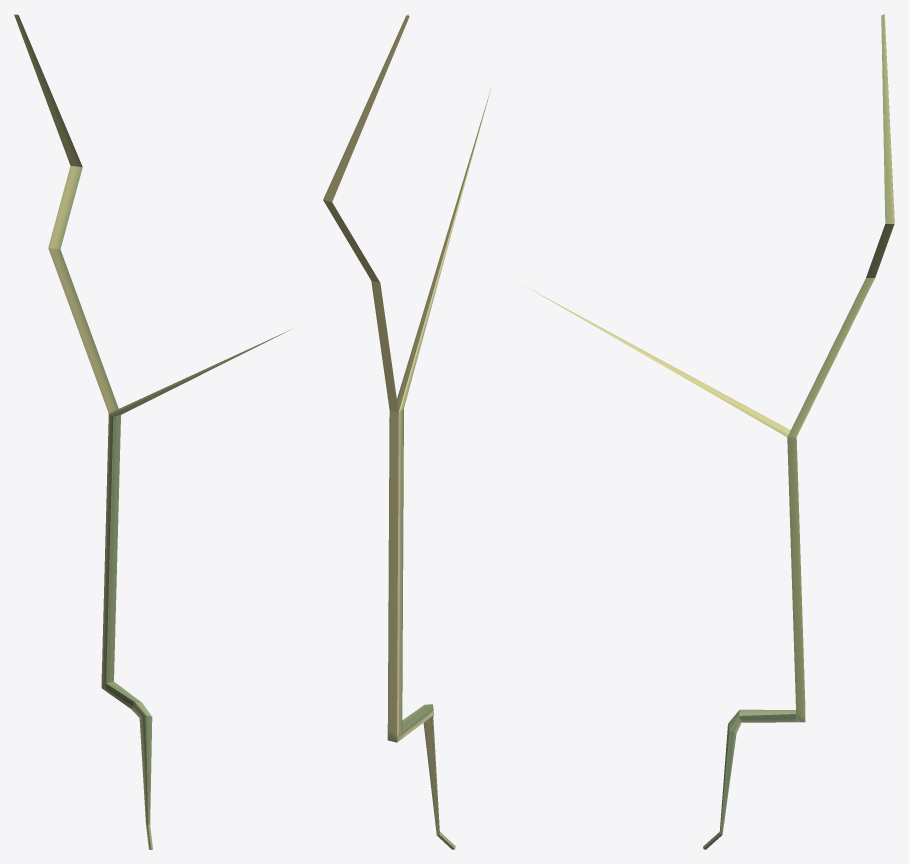
File: Island_1_SlimTree_1.gltf
3 renders of one model, left to right at view 1: azimuth 30°, elevation 25°; view 2: azimuth 150°, elevation 25°; view 3: azimuth 270°, elevation 25°, orthographic. The views are drawn at different scales.
Parts seen in each view (by area): view 1: Island_1_SlimTree_1; view 2: Island_1_SlimTree_1; view 3: Island_1_SlimTree_1.
Boxes of the visible parts, x1,y1,x2,y2 form: Island_1_SlimTree_1: [14, 14, 289, 849]; Island_1_SlimTree_1: [323, 14, 491, 849]; Island_1_SlimTree_1: [523, 14, 894, 849].
Size of the model in its own units: 1.01 by 7.24 by 3.02.
Materials: 1 (1 with a texture image).
